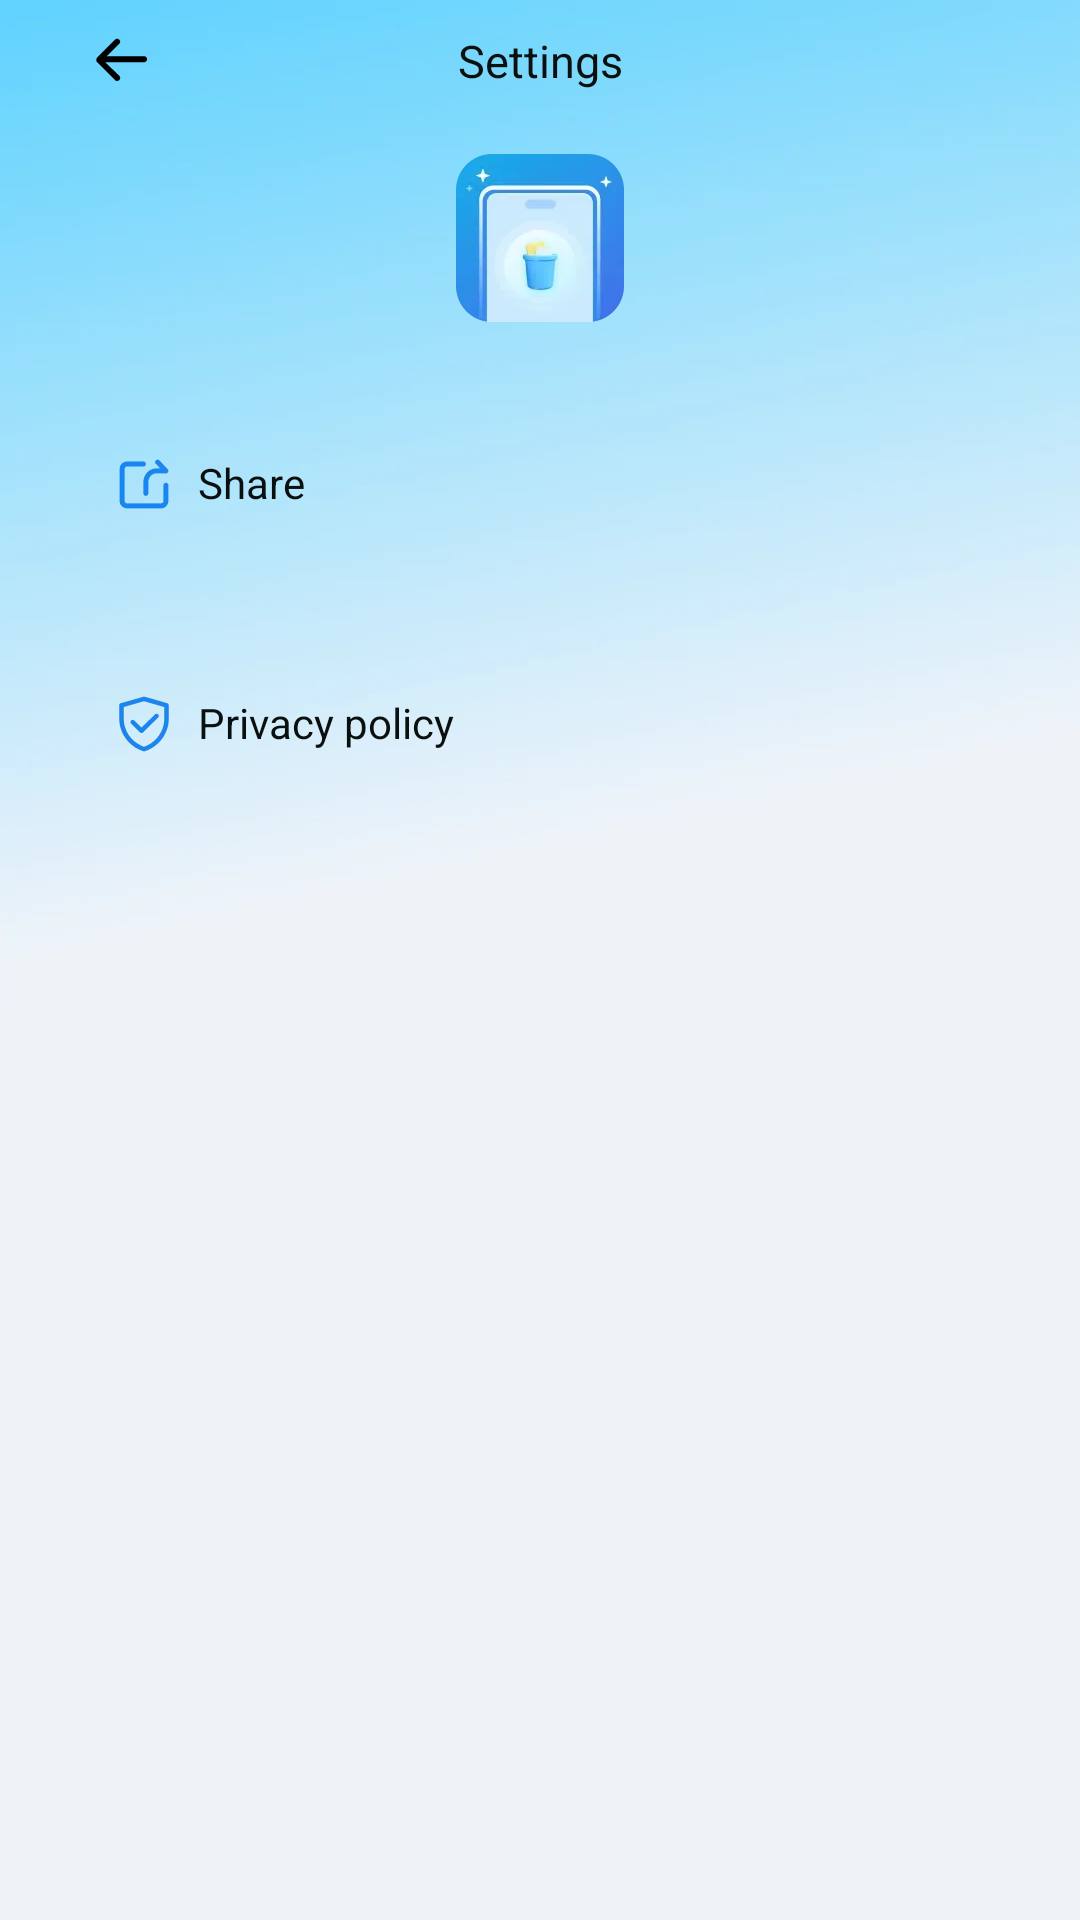

Named icons in this screenshot (1080x1920) and their bounding boxes, detection(x1, y1, x2, y2):
back: detection(96, 38, 147, 81)
